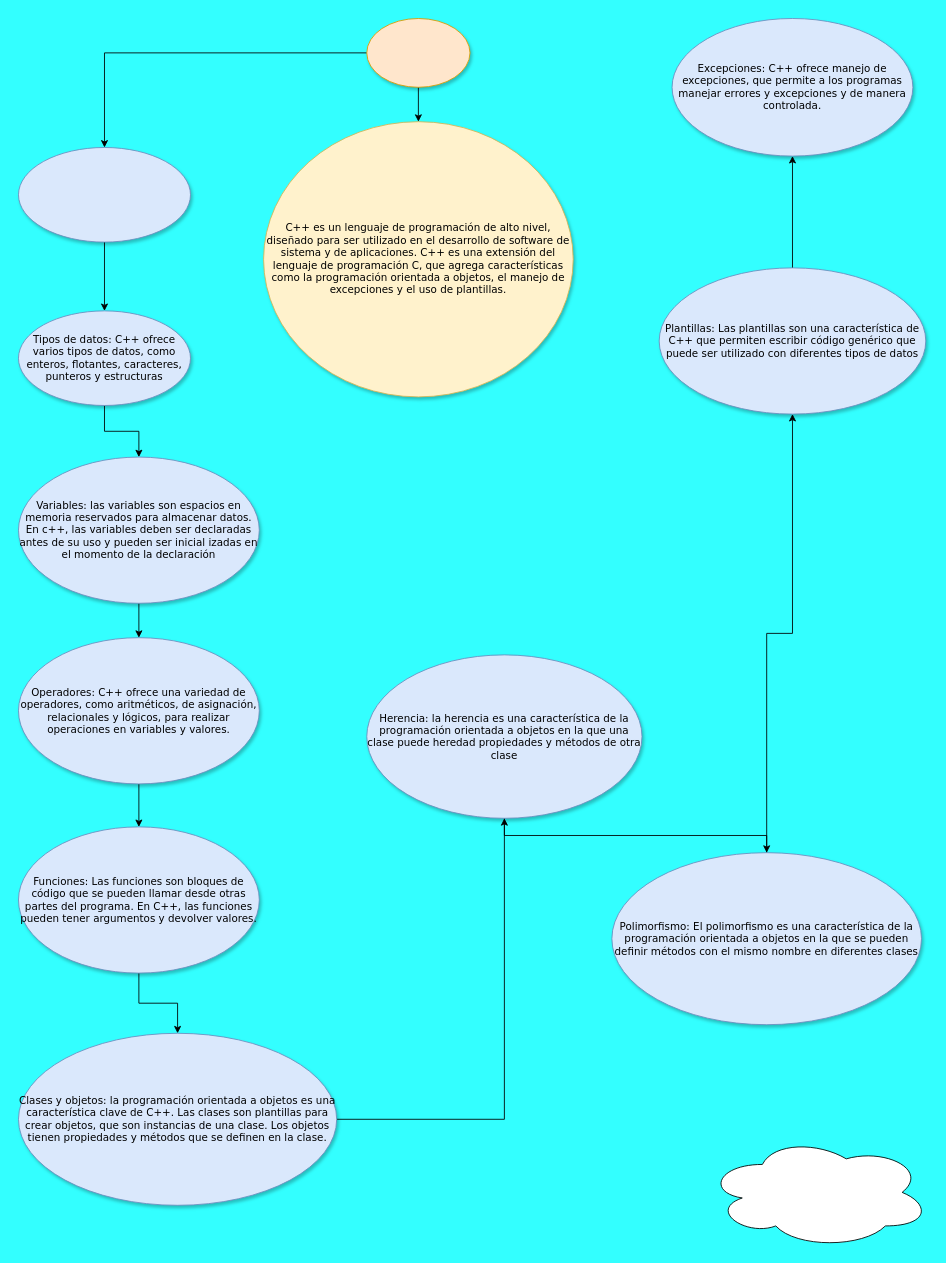
Image size: 946x1263. Some labels were removed from this diagram. The shapes that lost their labels are listed below. From the top down, each one's centre as x and y in pixels, then its label:
At point 418,53: "Generalidades y conceptos basicos".
At point 105,195: "Los componentes básicos del lenguaje de programación C++ incluyen".
At point 818,1192: "Hecho por Jose Luciano Mejia Arias".
